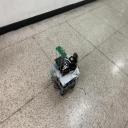cart: (50, 56, 79, 96)
